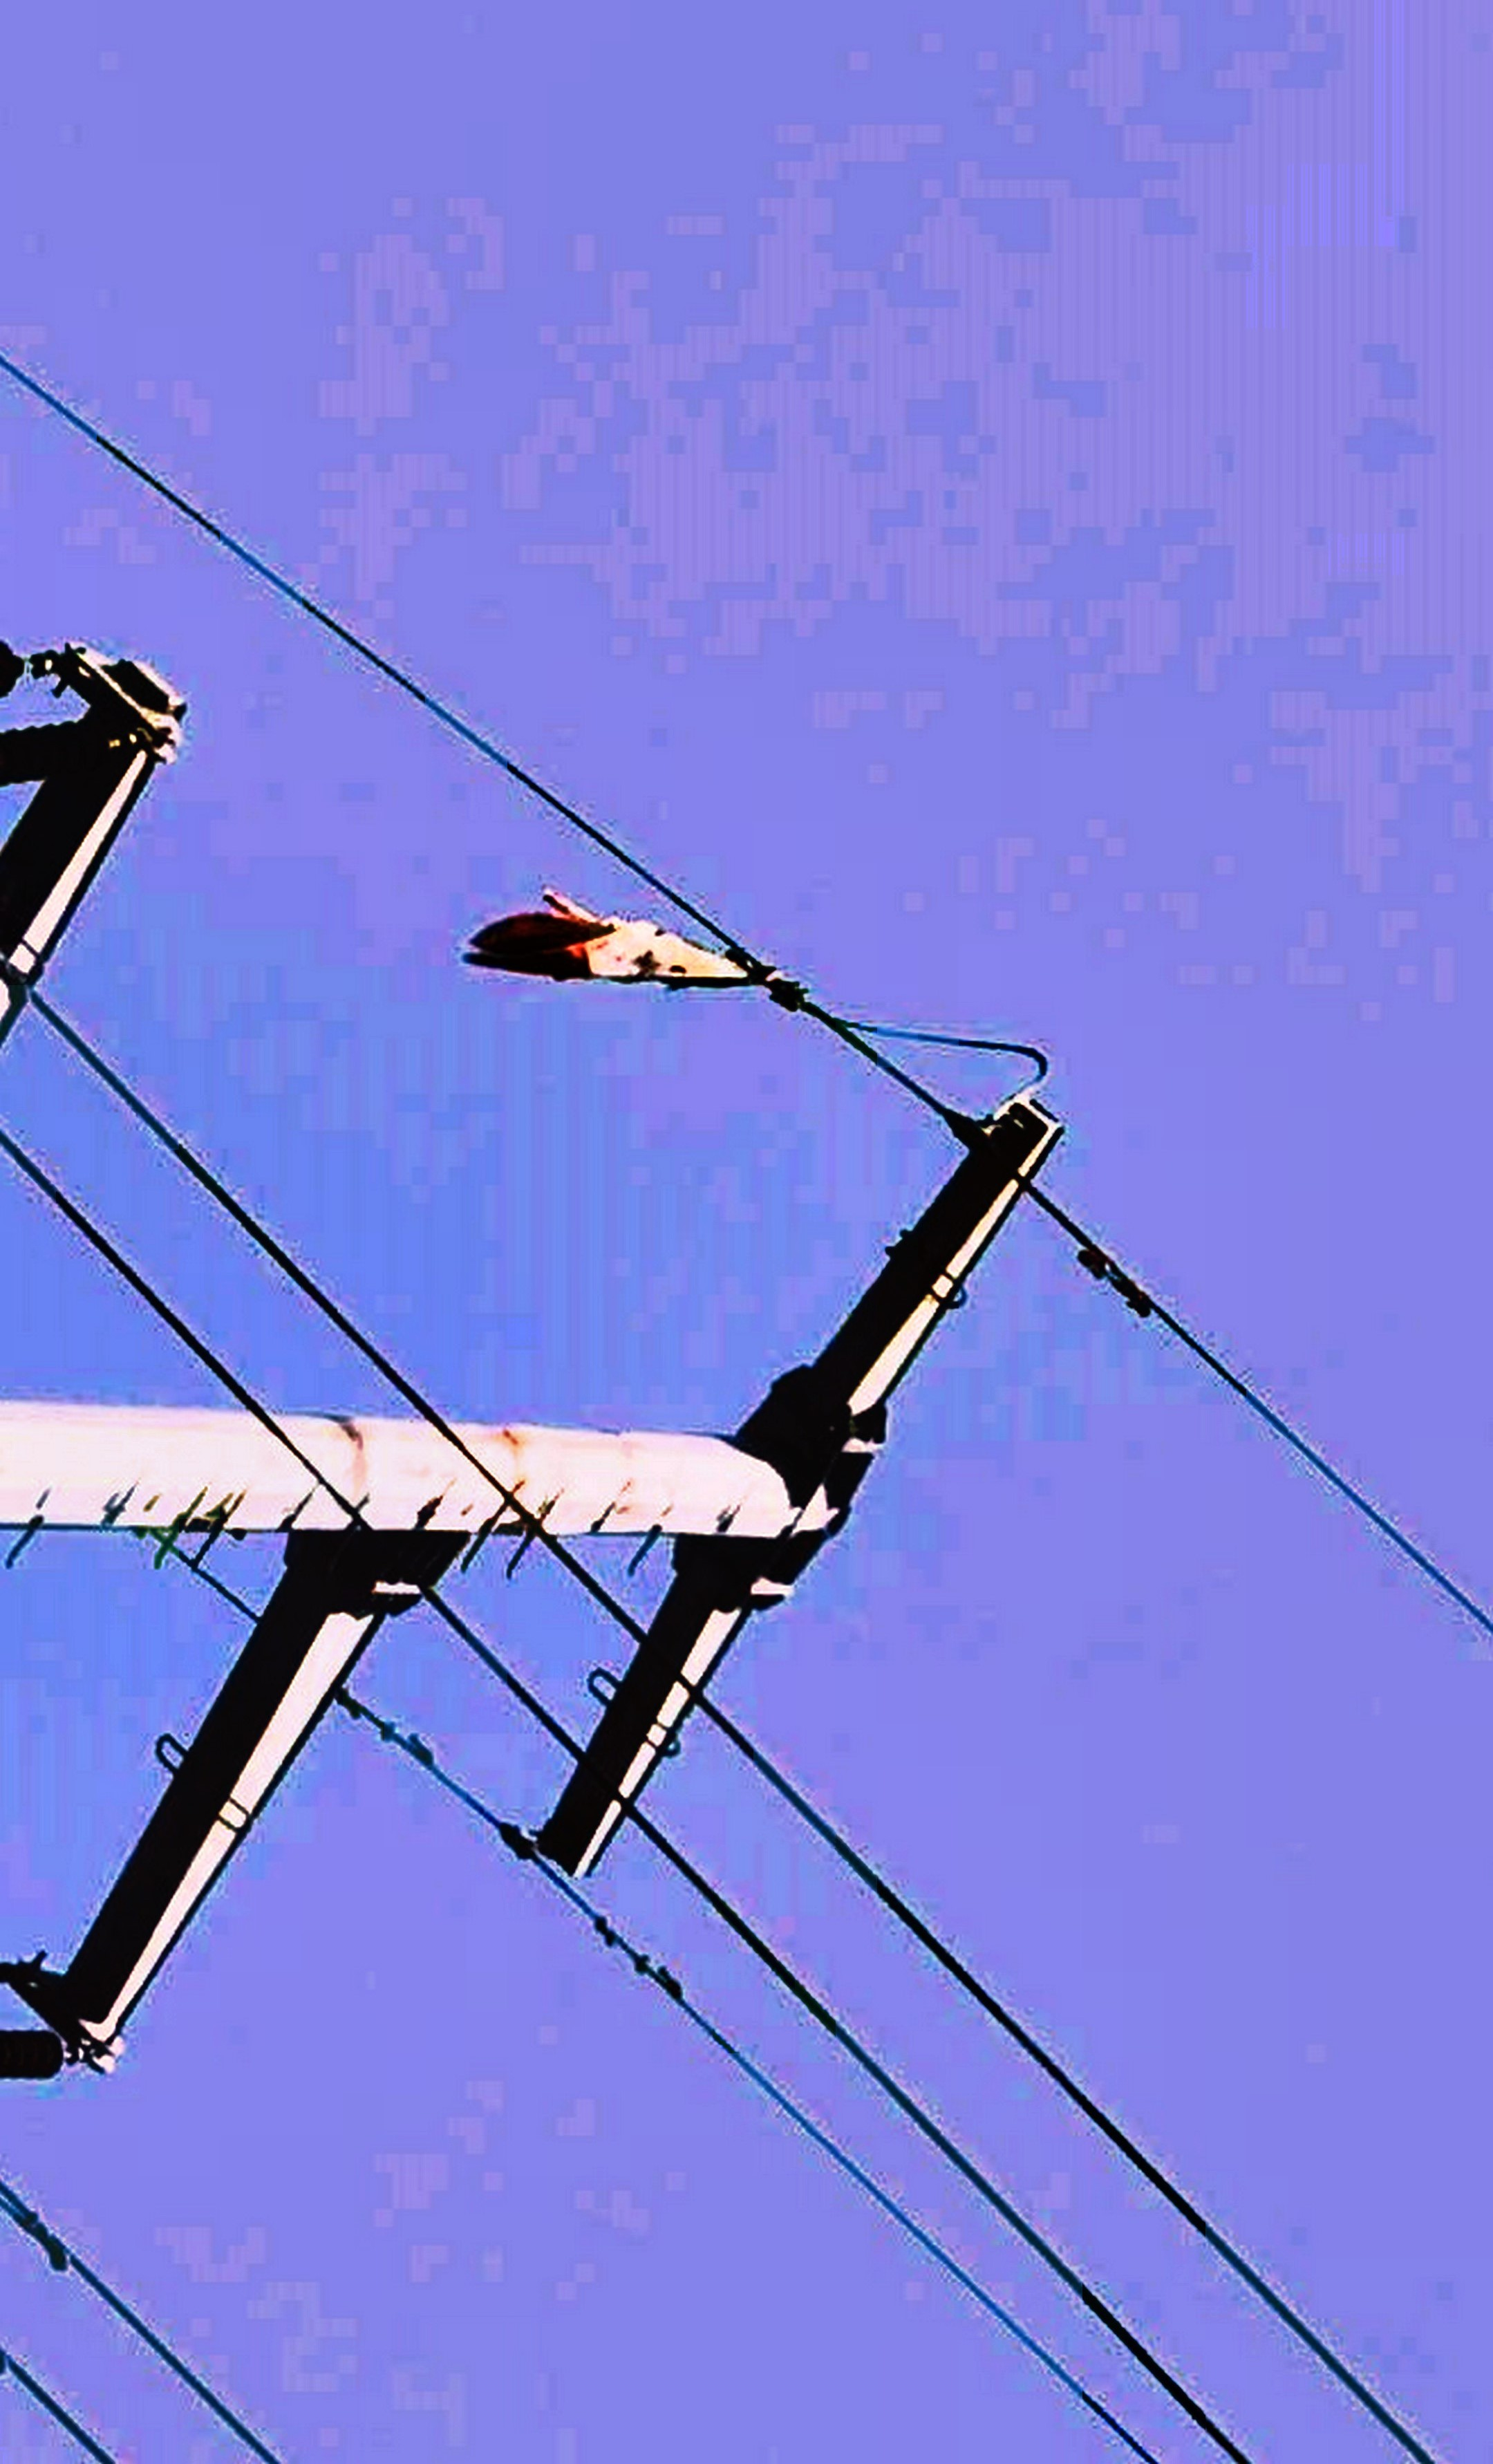wire foreign body: (423, 871, 886, 1098)
